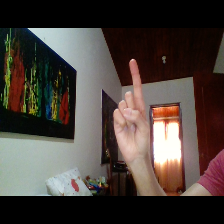2T: (112, 56, 152, 167)
